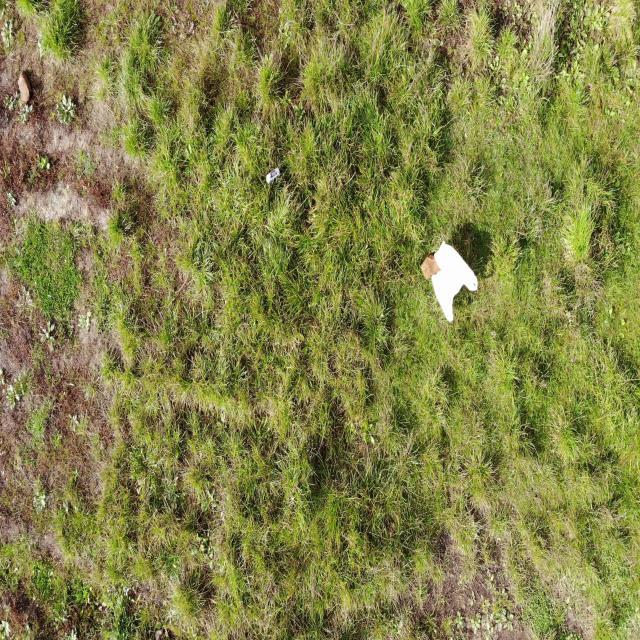rubbish: (432, 240, 478, 322), (265, 166, 281, 183)
